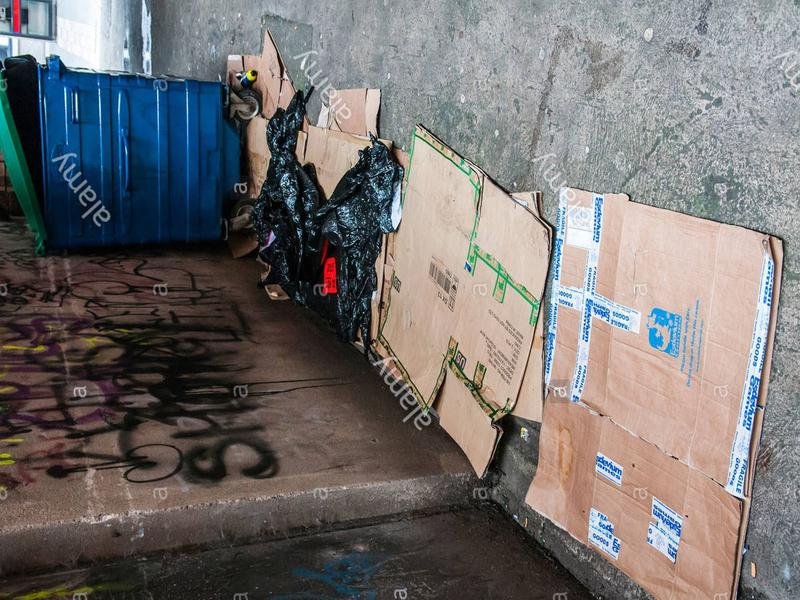cardboard: (523, 184, 788, 600), (369, 123, 558, 485), (303, 84, 382, 151), (258, 31, 295, 117)
plastic: (322, 132, 406, 360), (252, 93, 329, 319)
